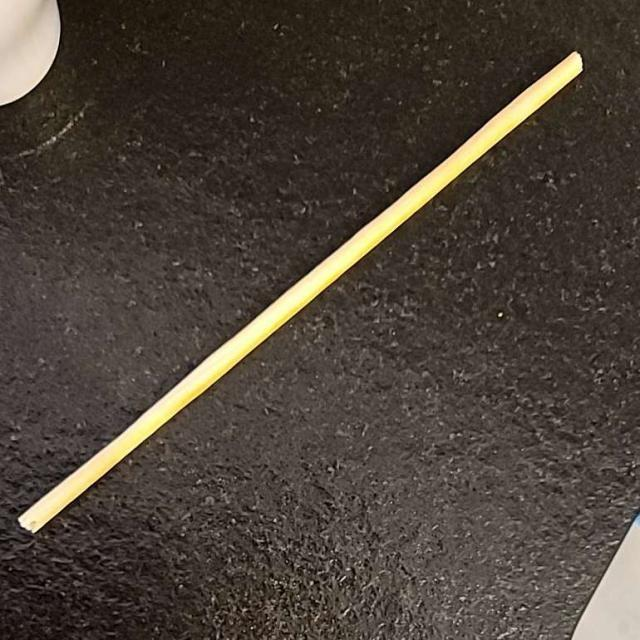grissini: (14, 49, 588, 530)
